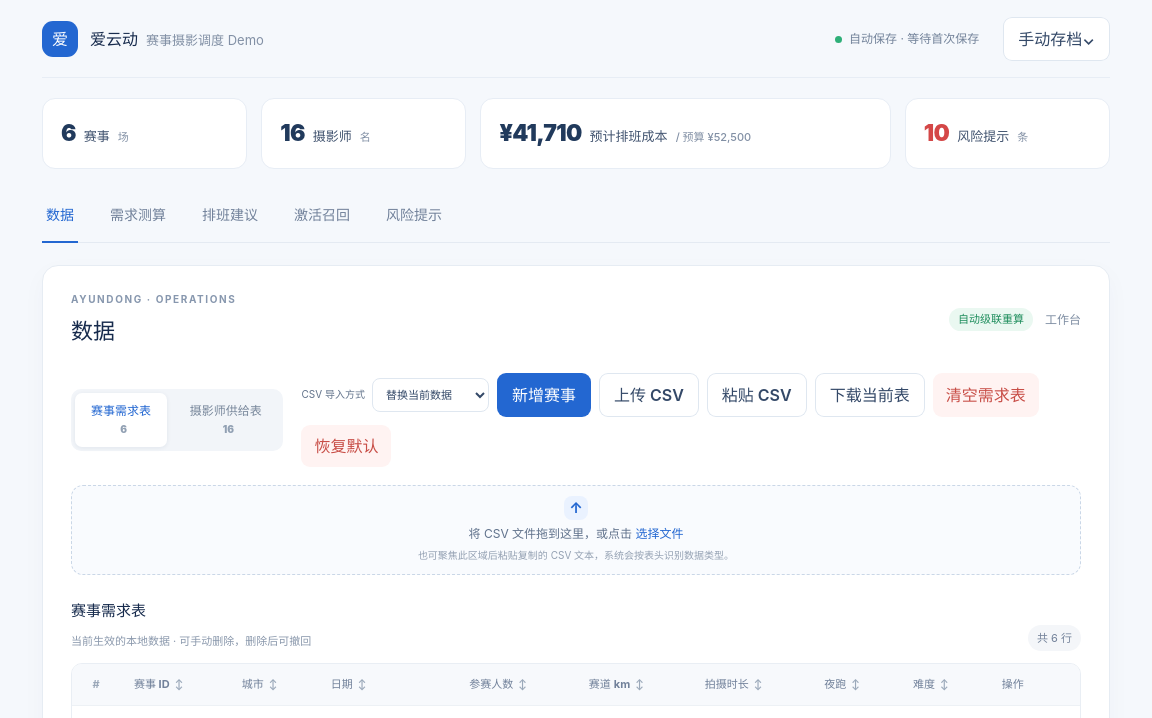
Test: M6 assignment recommendations page › shows event staffing, shortages, cost bars, cross-city details and selection reasons
The width and height of the screenshot is (1152, 718).
Click the tab "排班建议": (230, 215) [198,188,262,242]
(page scrolled)
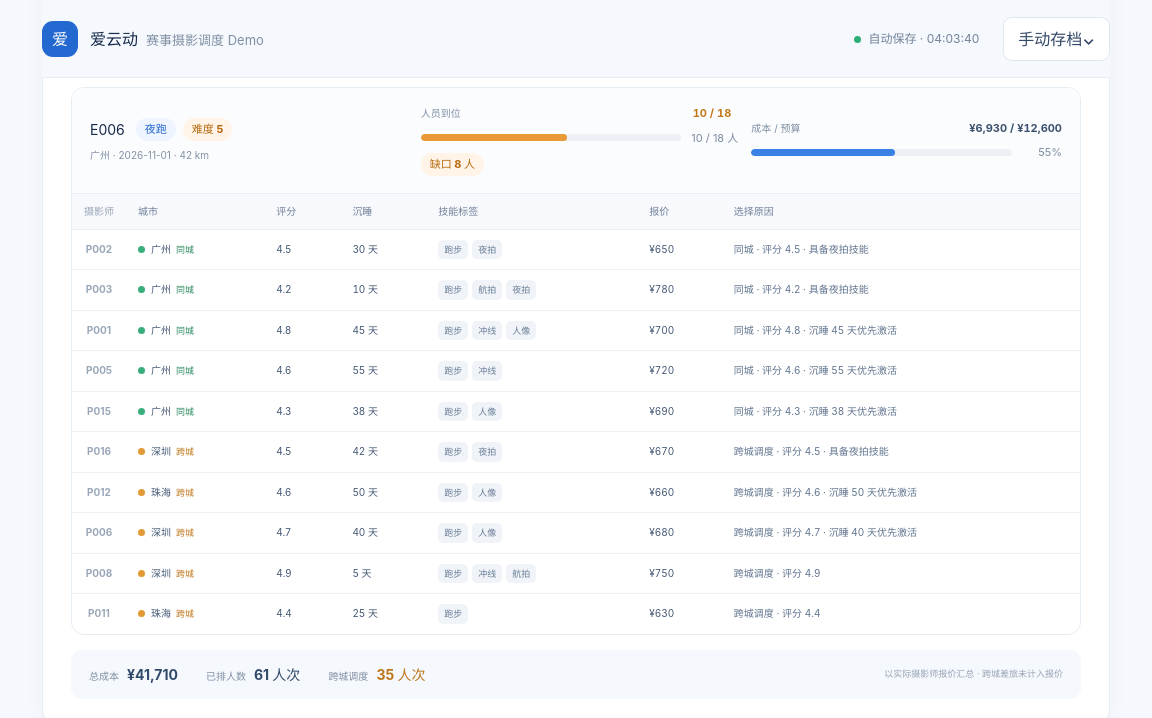
Expected: the element named "E006 排班" shows "缺口 8 人"
Expected: the element named "E006 排班" shows "¥", [969,121,976,135]
Expected: the element named "E006 排班" shows "跨城", [176,446,194,457]
